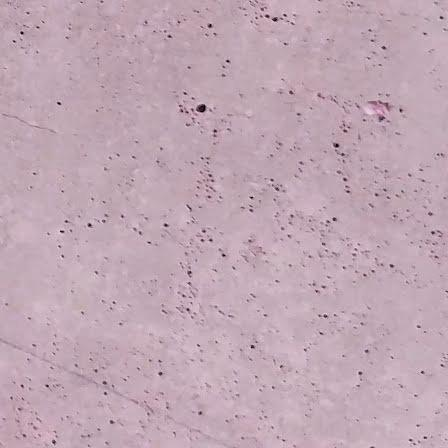crack: (0, 107, 60, 140)
hole: (196, 104, 206, 114)
spalling: (361, 97, 397, 117)
